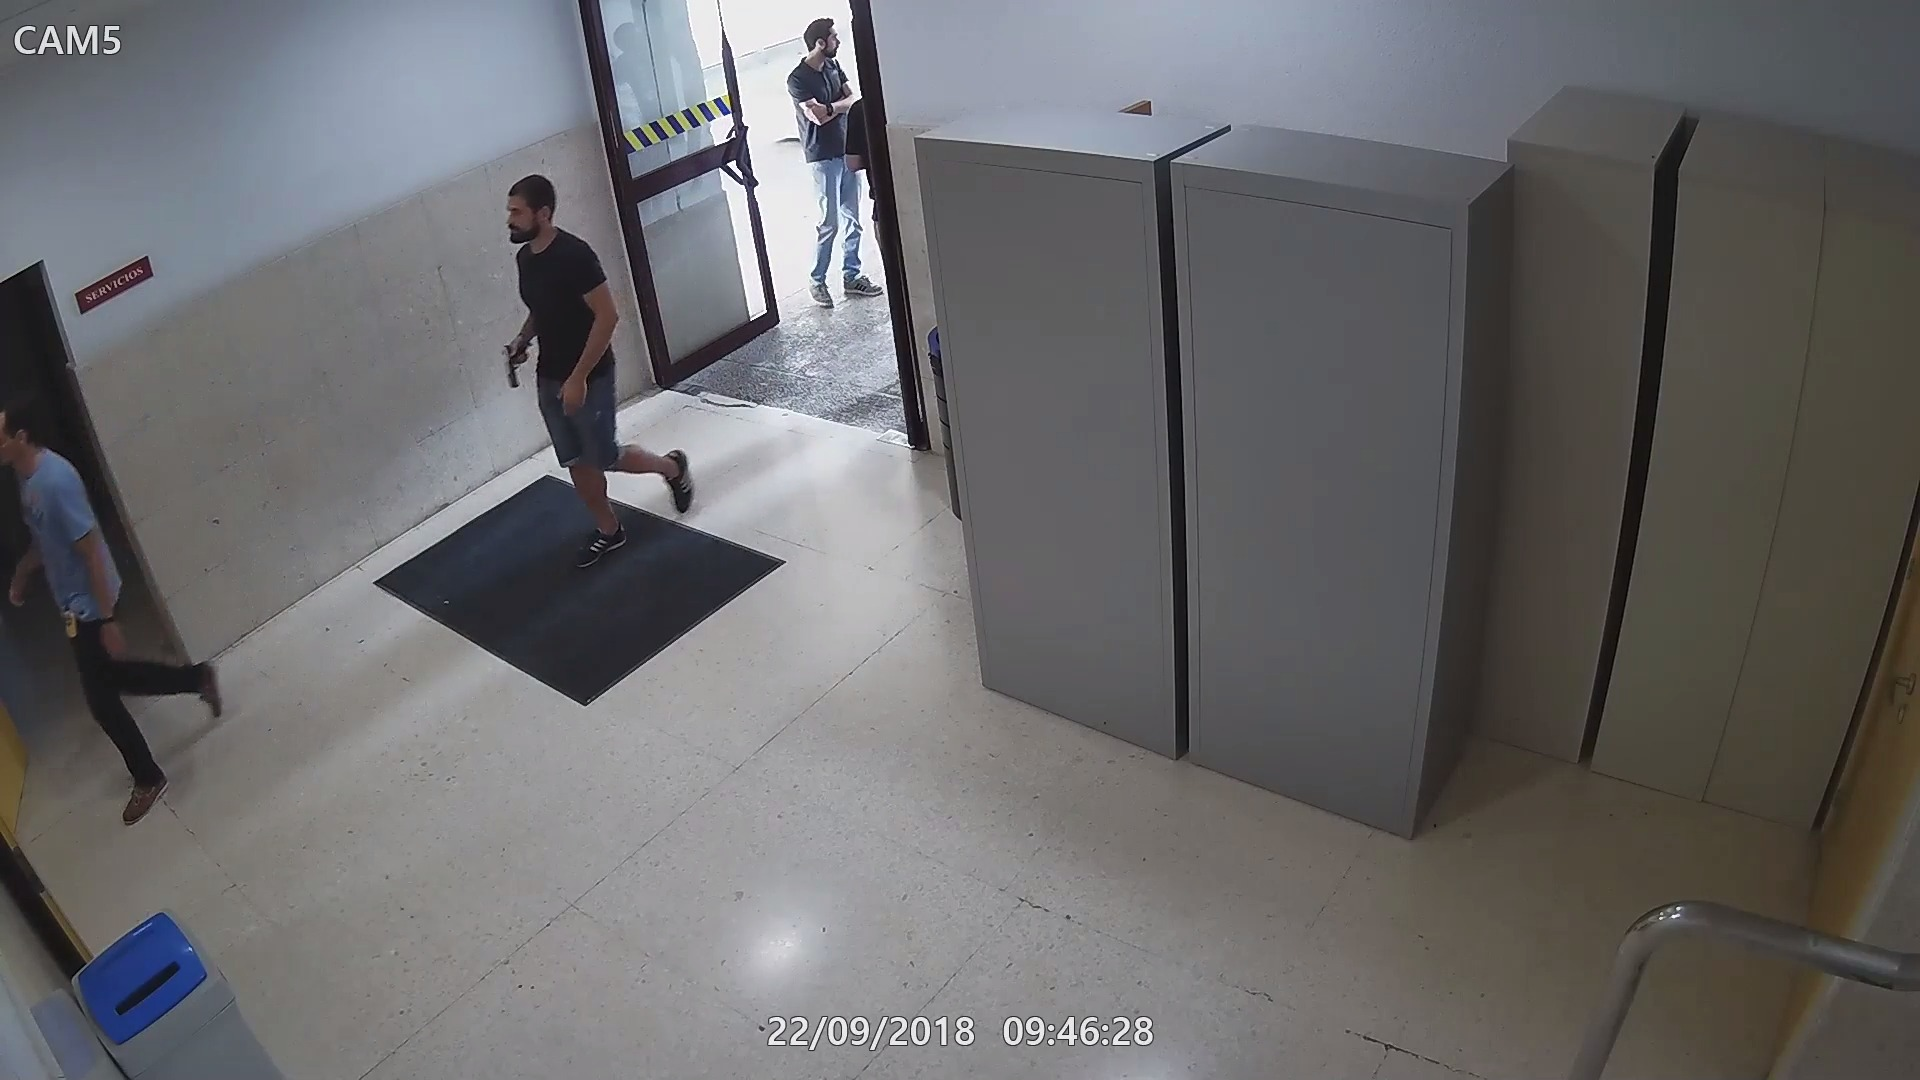Handgun: (495, 338, 535, 389)
